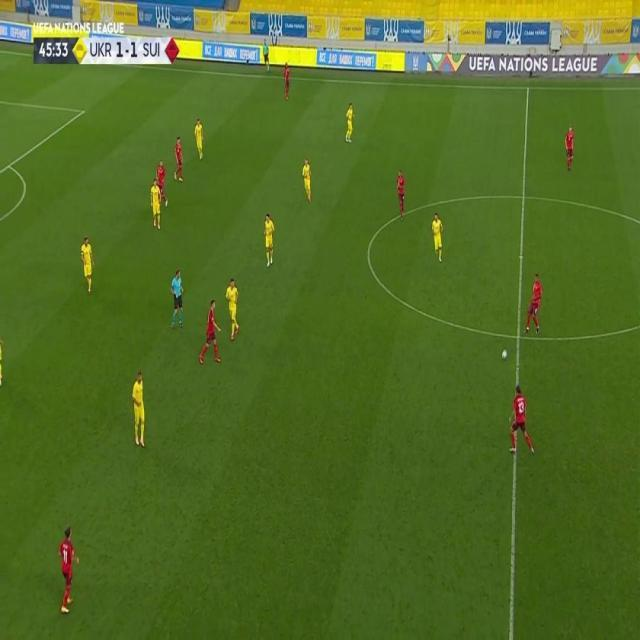ball: (501, 348, 508, 361)
player: (507, 383, 535, 457), (57, 525, 80, 614), (199, 298, 223, 368), (130, 369, 147, 447), (524, 272, 544, 334), (225, 278, 241, 342), (80, 235, 95, 297), (149, 178, 163, 233), (430, 212, 444, 264), (262, 213, 275, 268), (156, 158, 169, 209), (395, 169, 407, 222), (172, 135, 185, 183), (301, 156, 313, 204), (563, 125, 575, 171), (192, 117, 204, 159), (344, 102, 356, 143), (282, 60, 291, 101), (0, 334, 7, 386)
referee: (169, 268, 185, 329), (262, 38, 272, 75)
